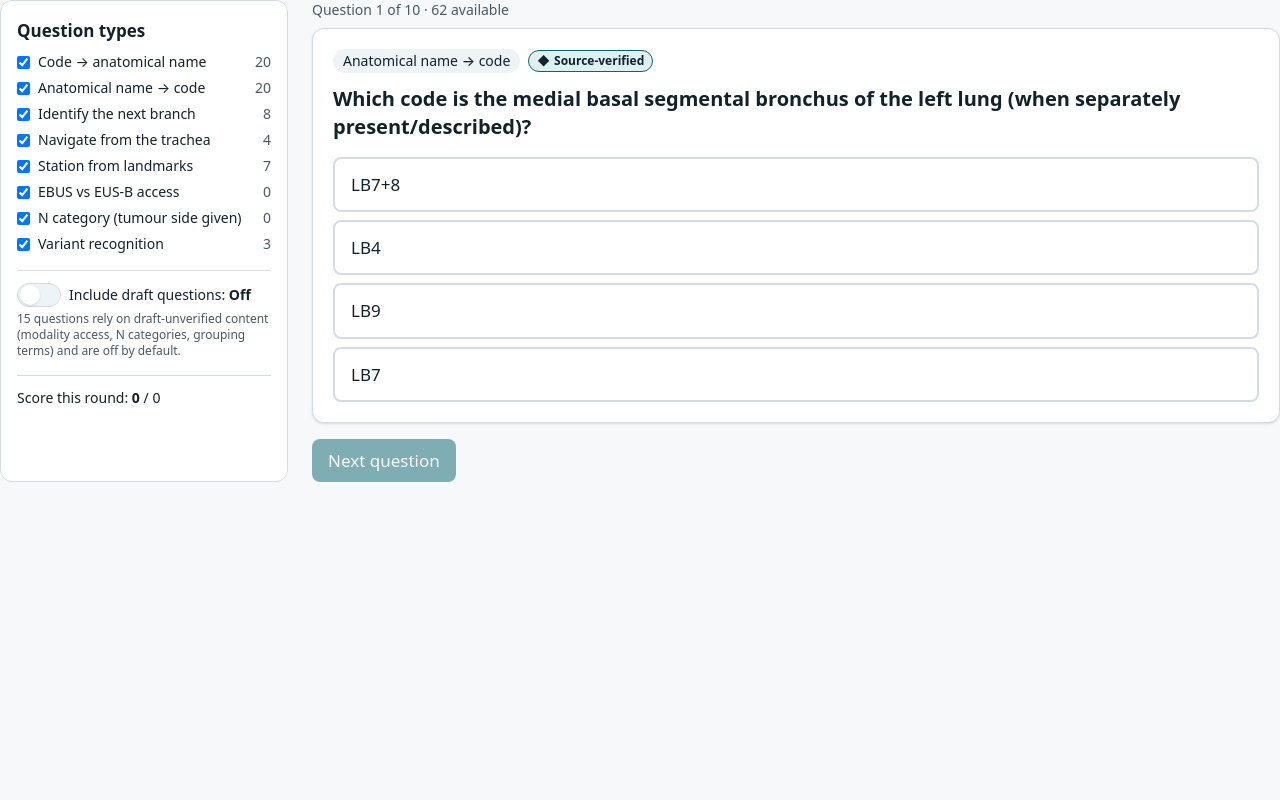
Test: Quiz › answering a question shows feedback and saves anonymous local progress
Click the button "LB7+8" at (376, 184), box 333,157 -> 1259,212
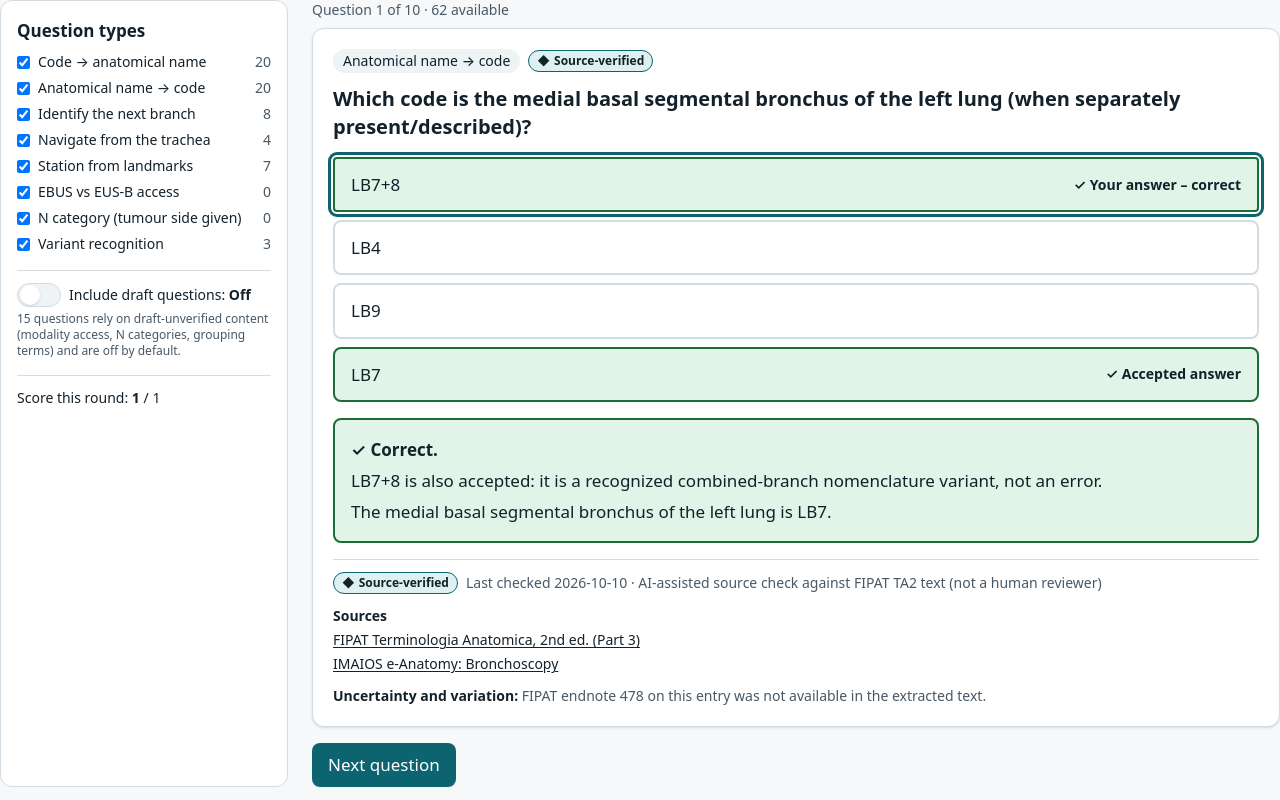
Expected: the text "✓ Correct." is shown, 351,438 -> 438,461
